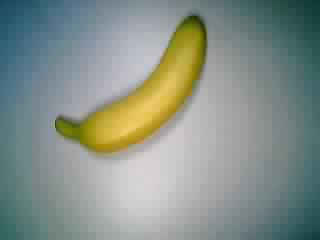banana: (51, 11, 213, 154)
